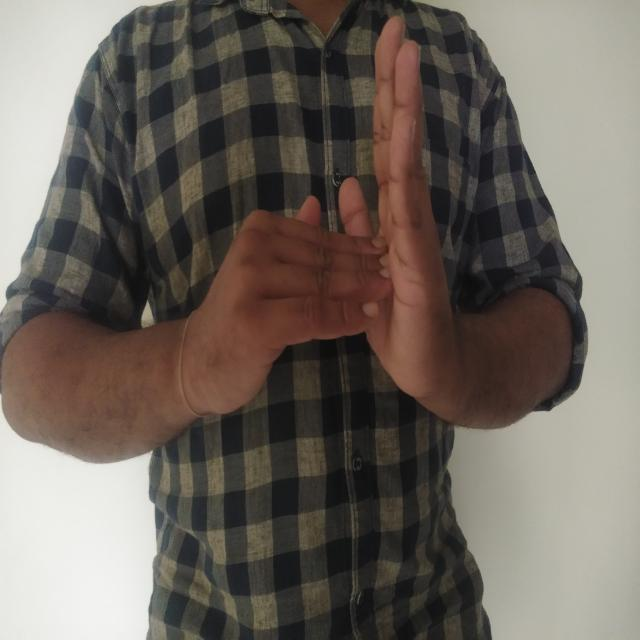Z: (174, 7, 474, 439)
